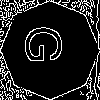G: (25, 25, 71, 64)
